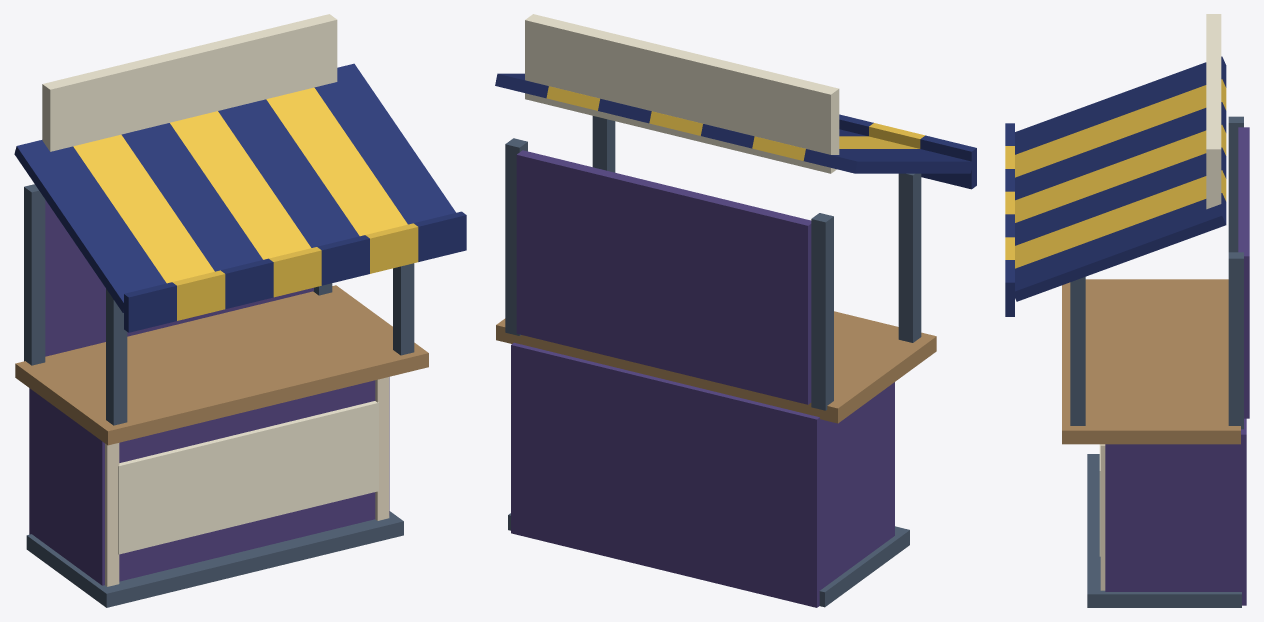
File: sell_booth.glb
3 renders of one model, left to right at view 1: azimuth 30°, elevation 25°; view 2: azimuth 150°, elevation 25°; view 3: azimuth 270°, elevation 25°, orthographic. The views are drawn at different scales.
Parts seen in each view (by area): view 1: p; view 2: p; view 3: p.
Boxes of the visible parts, left/top/right/bottom form: p: left=14, top=14, right=466, bottom=607; p: left=495, top=14, right=976, bottom=607; p: left=1005, top=14, right=1249, bottom=607.
Size of the model in its own units: 2 by 2.67 by 1.29.
